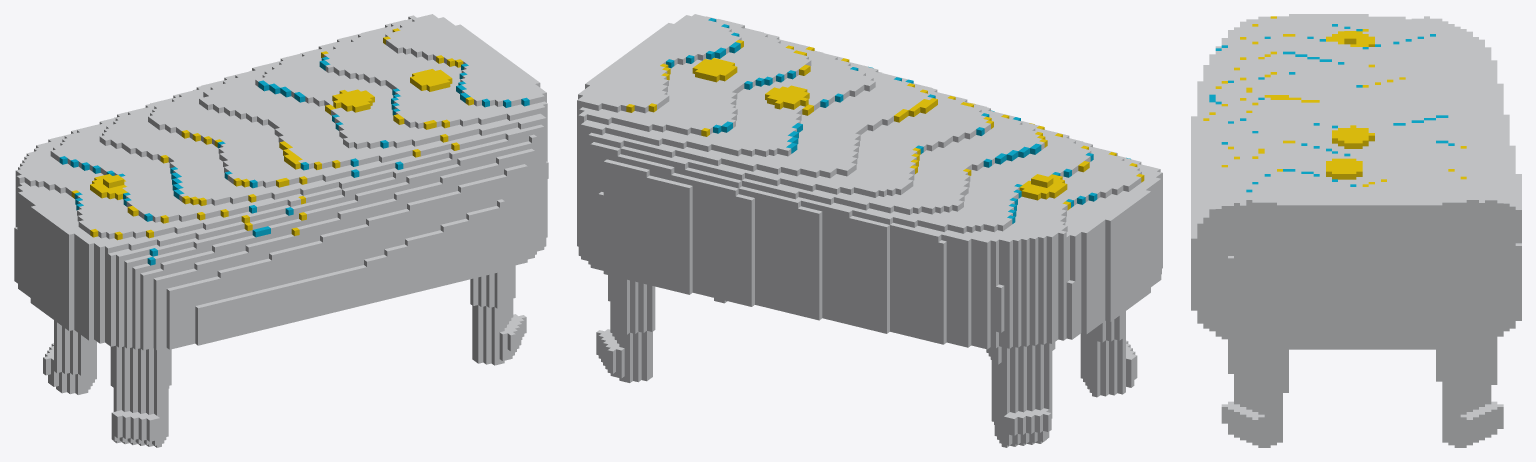
3 renders of one model, left to right at view 1: azimuth 30°, elevation 25°; view 2: azimuth 150°, elevation 25°; view 3: azimuth 270°, elevation 25°, orthographic. The views are drawn at different scales.
Visible parts, largest first — view 1: =>[0:1:1:863], =>[0:1:1:152], =>[0:1:1:429], =>[0:1:1:428], =>[0:1:1:124], =>[0:1:1:427], =>[0:1:1:35], =>[0:1:1:443], =>[0:1:1:211], =>[0:1:1:879], =>[0:1:1:444], =>[0:1:1:746] (+41 smaller); view 2: =>[0:1:1:292], =>[0:1:1:772], =>[0:1:1:765], =>[0:1:1:949], =>[0:1:1:450], =>[0:1:1:152], =>[0:1:1:852], =>[0:1:1:444], =>[0:1:1:124], =>[0:1:1:1434], =>[0:1:1:35], =>[0:1:1:211] (+30 smaller); view 3: =>[0:1:1:717], =>[0:1:1:290], =>[0:1:1:291], =>[0:1:1:460], =>[0:1:1:124], =>[0:1:1:1072], =>[0:1:1:459], =>[0:1:1:35], =>[0:1:1:211], =>[0:1:1:746], =>[0:1:1:879], =>[0:1:1:889] (+60 smaller).
Boxes of the visible parts, bbox=[...] form: =>[0:1:1:863]: bbox=[198, 233, 504, 345]; =>[0:1:1:152]: bbox=[30, 207, 68, 330]; =>[0:1:1:429]: bbox=[195, 243, 363, 305]; =>[0:1:1:428]: bbox=[502, 171, 527, 267]; =>[0:1:1:124]: bbox=[417, 14, 544, 99]; =>[0:1:1:427]: bbox=[169, 285, 195, 349]; =>[0:1:1:35]: bbox=[351, 35, 477, 121]; =>[0:1:1:443]: bbox=[74, 234, 88, 340]; =>[0:1:1:211]: bbox=[233, 87, 309, 127]; =>[0:1:1:879]: bbox=[223, 149, 294, 180]; =>[0:1:1:444]: bbox=[18, 192, 35, 297]; =>[0:1:1:746]: bbox=[116, 113, 194, 161]; =>[0:1:1:292]: bbox=[603, 167, 689, 294]; =>[0:1:1:772]: bbox=[822, 211, 886, 333]; =>[0:1:1:765]: bbox=[755, 198, 819, 320]; =>[0:1:1:949]: bbox=[692, 186, 751, 306]; =>[0:1:1:450]: bbox=[890, 230, 943, 344]; =>[0:1:1:152]: bbox=[1110, 192, 1150, 321]; =>[0:1:1:852]: bbox=[946, 236, 968, 347]; =>[0:1:1:444]: bbox=[1086, 220, 1105, 333]; =>[0:1:1:124]: bbox=[577, 14, 710, 103]; =>[0:1:1:1434]: bbox=[971, 239, 987, 349]; =>[0:1:1:35]: bbox=[647, 36, 780, 126]; =>[0:1:1:211]: bbox=[791, 116, 867, 160]; =>[0:1:1:717]: bbox=[1283, 205, 1442, 349]; =>[0:1:1:290]: bbox=[1442, 202, 1466, 346]; =>[0:1:1:291]: bbox=[1252, 202, 1276, 341]; =>[0:1:1:460]: bbox=[1466, 200, 1478, 344]; =>[0:1:1:124]: bbox=[1246, 192, 1478, 199]; =>[0:1:1:1072]: bbox=[1485, 200, 1497, 339]; =>[0:1:1:459]: bbox=[1240, 205, 1252, 344]; =>[0:1:1:35]: bbox=[1246, 164, 1478, 171]; =>[0:1:1:211]: bbox=[1350, 108, 1448, 123]; =>[0:1:1:746]: bbox=[1356, 67, 1478, 77]; =>[0:1:1:879]: bbox=[1264, 77, 1319, 99]; =>[0:1:1:889]: bbox=[1356, 87, 1423, 102].
Size of the model in its own units: 39.28 by 20.29 by 23.31.
